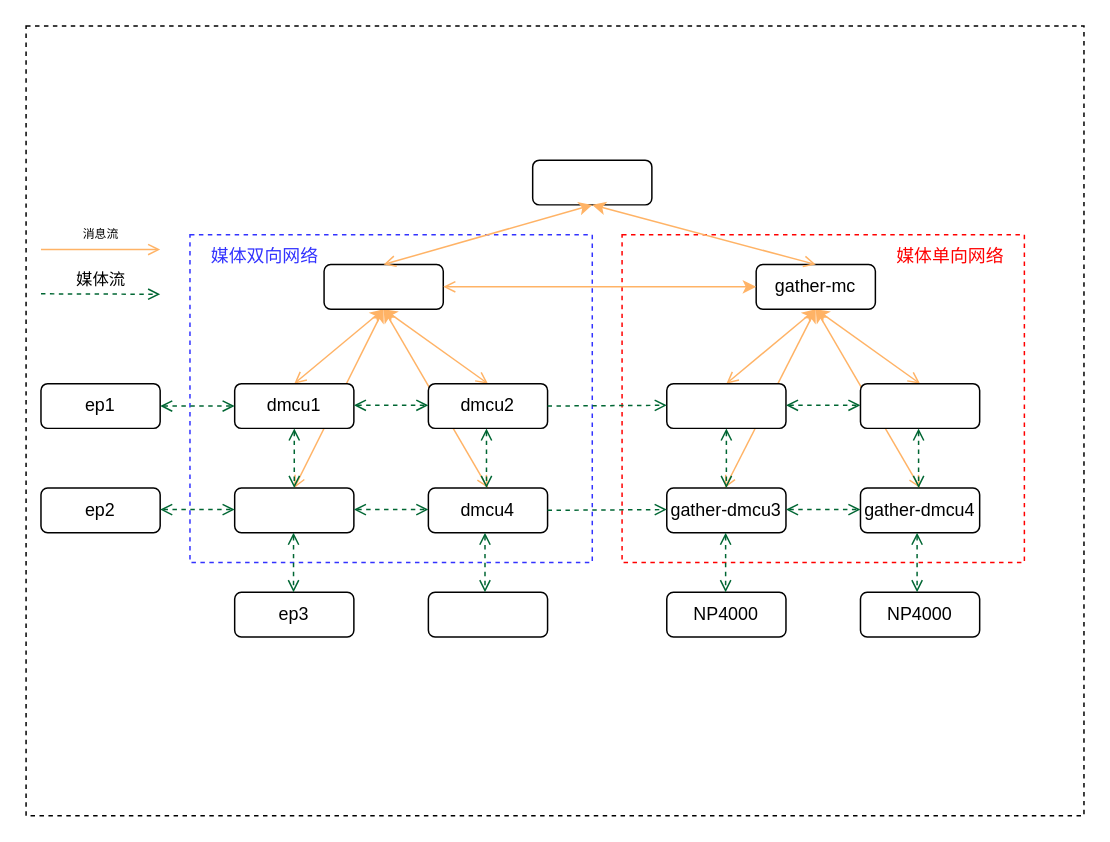
Some shapes in this 1110 by 842 pixel diagram are drawn without their labels. The shapes that lost their labels are listed below. From the top down, each one's centre as x and y in pixels, then its label:
At point (591, 182): "sig-server".
At point (383, 286): "mc".
At point (725, 405): "gather-dmcu1".
At point (919, 405): "gather-dmcu2".
At point (293, 509): "dmcu3".
At point (487, 614): "ep4".
